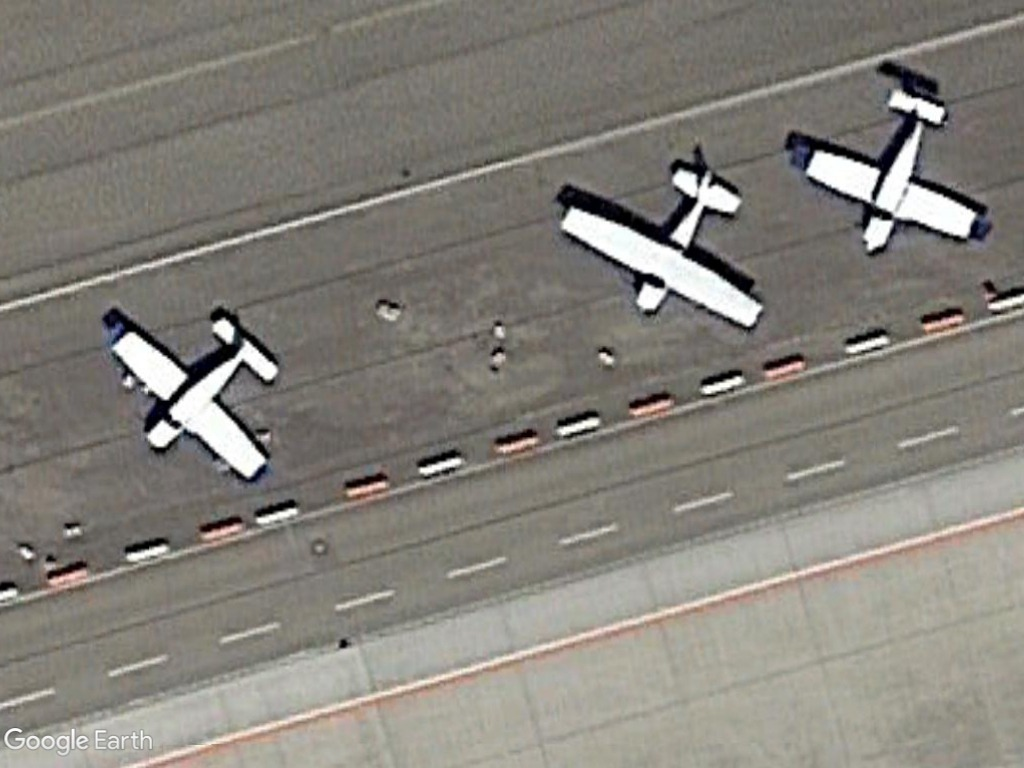trainer: (557, 156, 773, 348), (798, 86, 990, 265), (108, 310, 285, 490)
